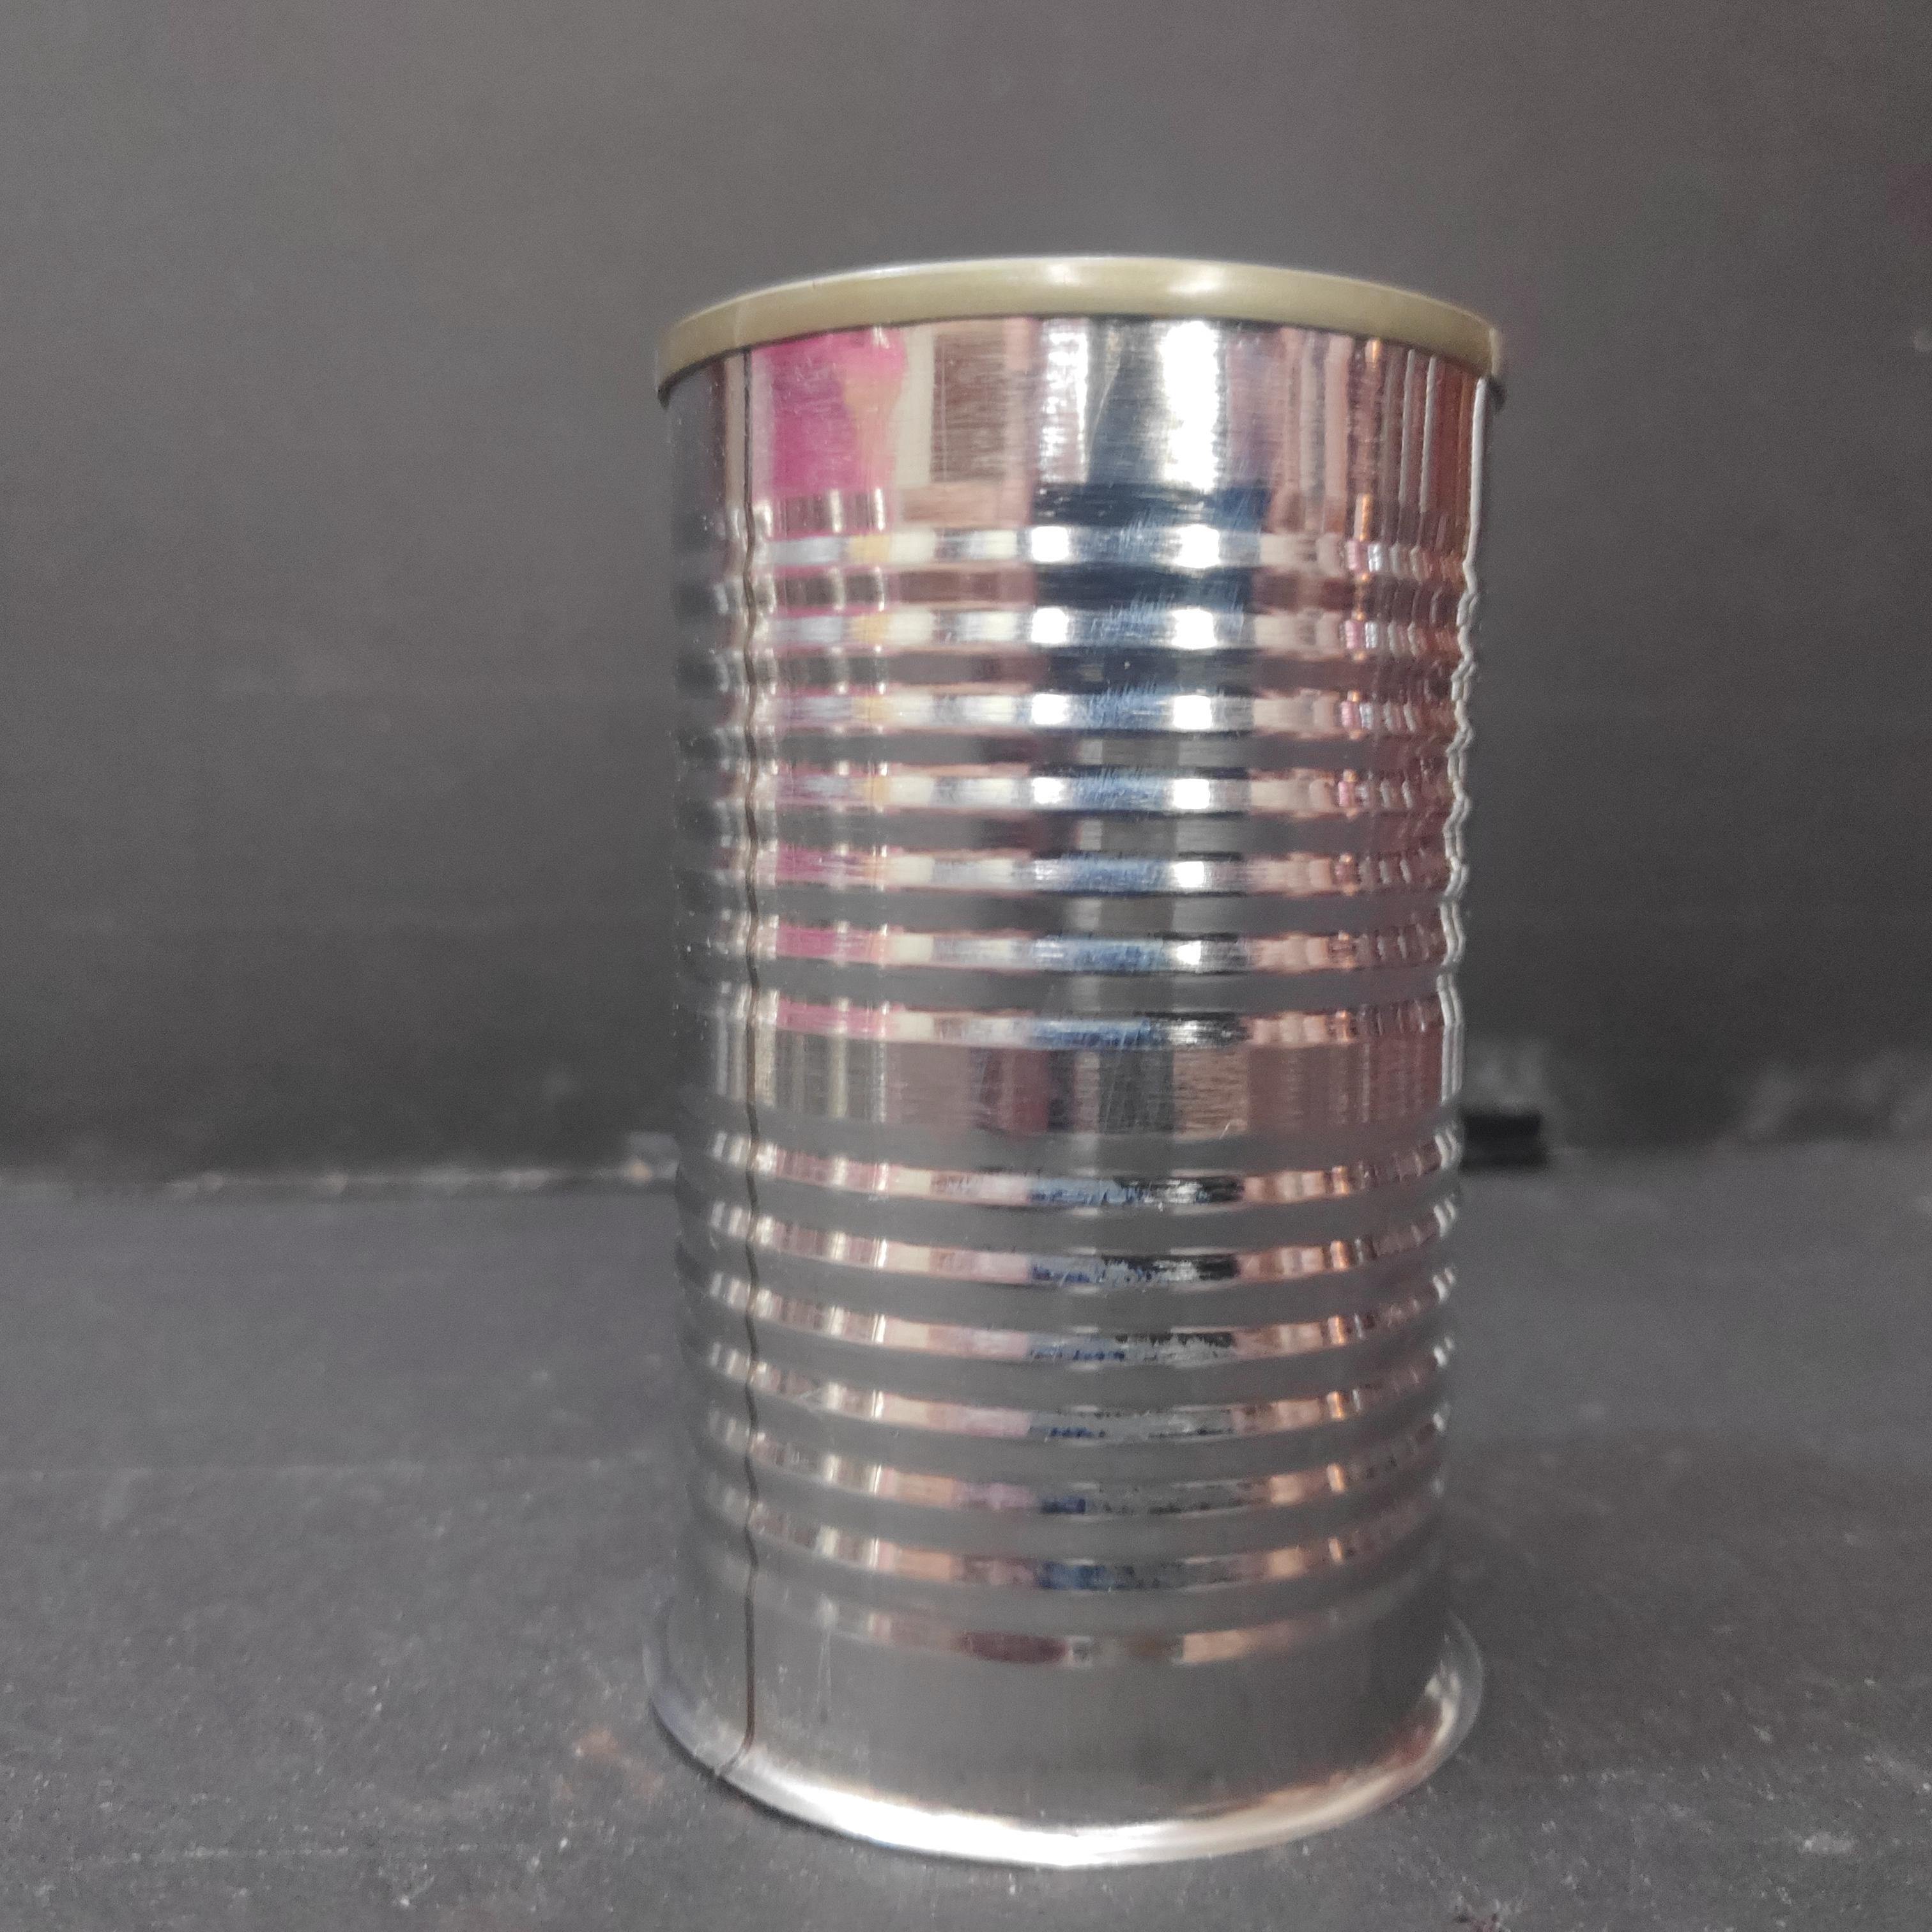No defect: (635, 251, 1522, 1859)
